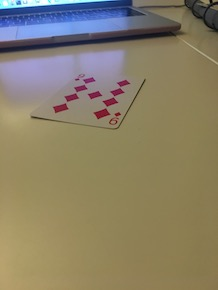NineOfDiamonds: (24, 68, 152, 134)
